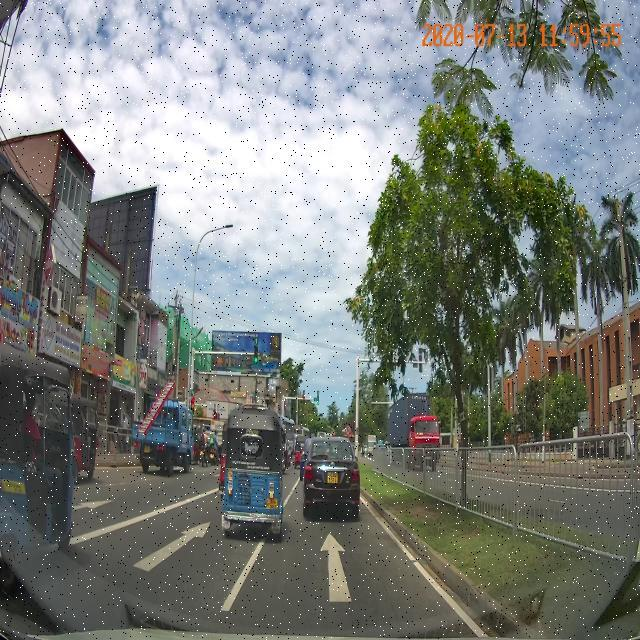forward: (219, 520, 479, 615)
